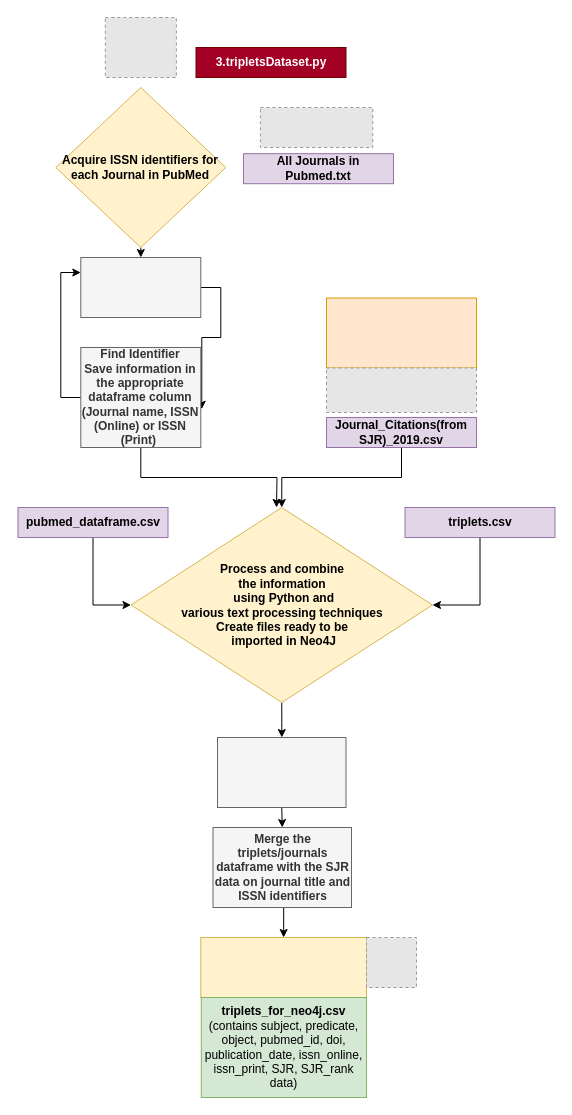
Some shapes in this 572 by 1115 pixel diagram are drawn without their labels. Grey dashed boxes stand in for pictures. Each missing label, with the centre of its shape:
"Acquire journal rank information from Scimagojr" belongs at (x=401, y=332).
"Export data to CSV format Contains semantic triplets and labels" belongs at (x=283, y=967).
"Merge the triplets dataframe with the Pubmed Journals dataframe on Journal title" belongs at (x=281, y=772).
"Read line in txt file" belongs at (x=140, y=287).
